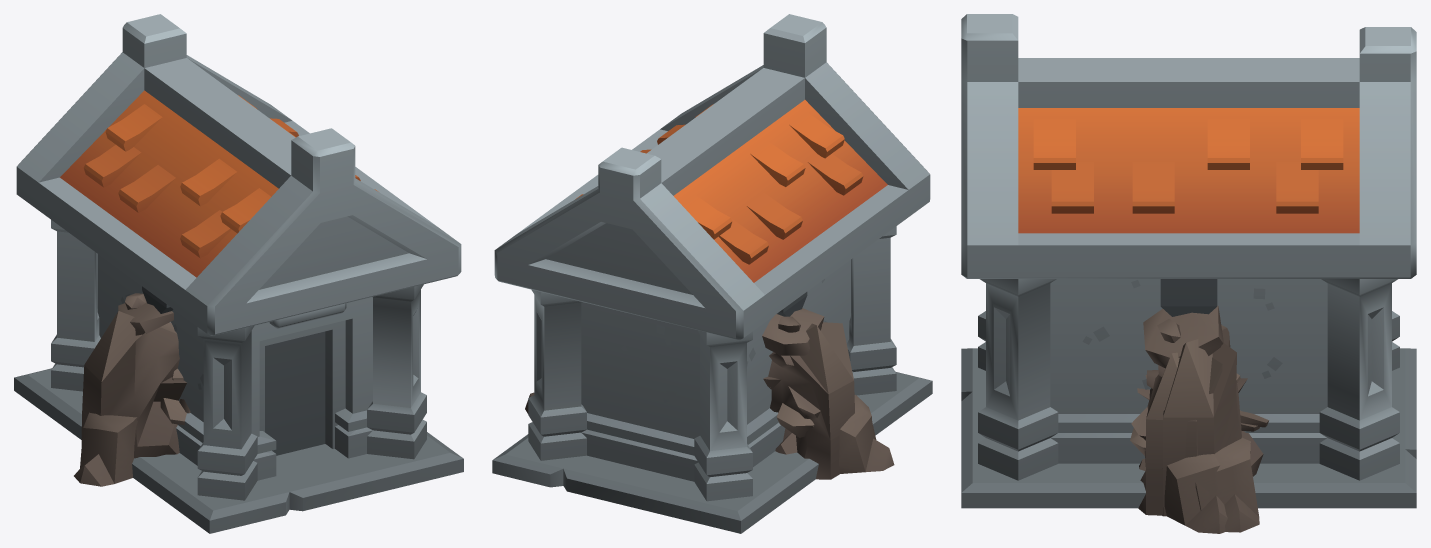
The model's file is env-siege.glb.
The picture shows the model from 3 angles, left to right: view 1: azimuth 30°, elevation 25°; view 2: azimuth 150°, elevation 25°; view 3: azimuth 270°, elevation 25°; orthographic projection. The views are drawn at different scales.
Parts seen in each view (by area): view 1: crypt, rubble_large; view 2: crypt, rubble_large; view 3: crypt, rubble_half, rubble_large, wall.
Boxes of the visible parts, <box> form: crypt: <box>14,14,463,533</box>; rubble_large: <box>74,293,190,486</box>; crypt: <box>492,14,932,533</box>; rubble_large: <box>762,308,894,479</box>; crypt: <box>961,14,1416,508</box>; rubble_half: <box>1143,305,1268,532</box>; rubble_large: <box>1130,352,1259,533</box>; wall: <box>1160,279,1217,316</box>.
Bounding box in the file's own units: 8.13 × 8.4 × 8.
Materials: 4 (4 with a texture image).
